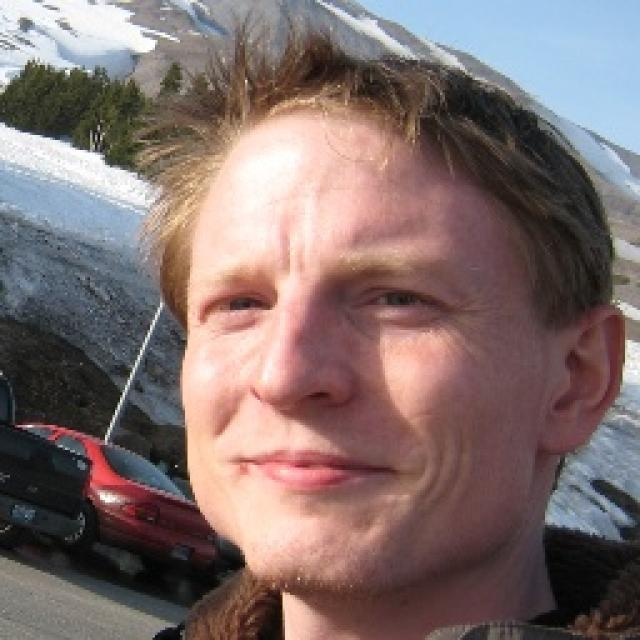earlobe: (543, 303, 627, 454)
